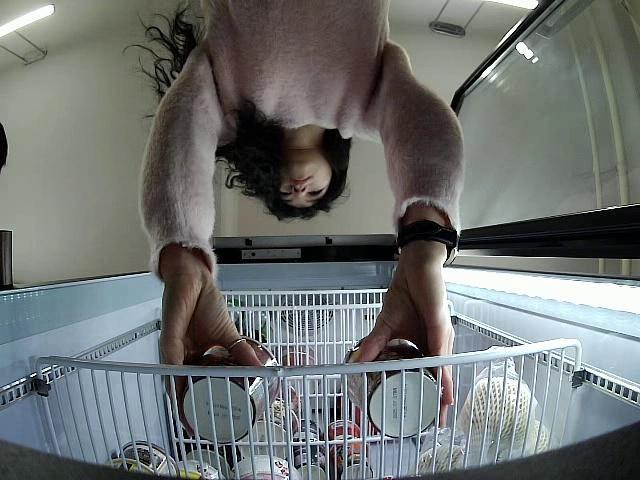06_nuguri_S: (180, 336, 278, 444), (340, 337, 440, 441)
